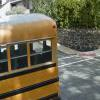Bus: (2, 10, 61, 100)
